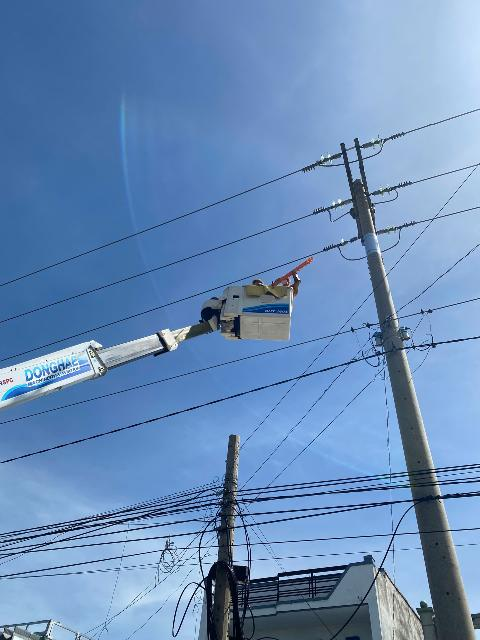gloves: (288, 267, 313, 282)
helmet: (239, 266, 269, 293), (278, 264, 291, 287)
